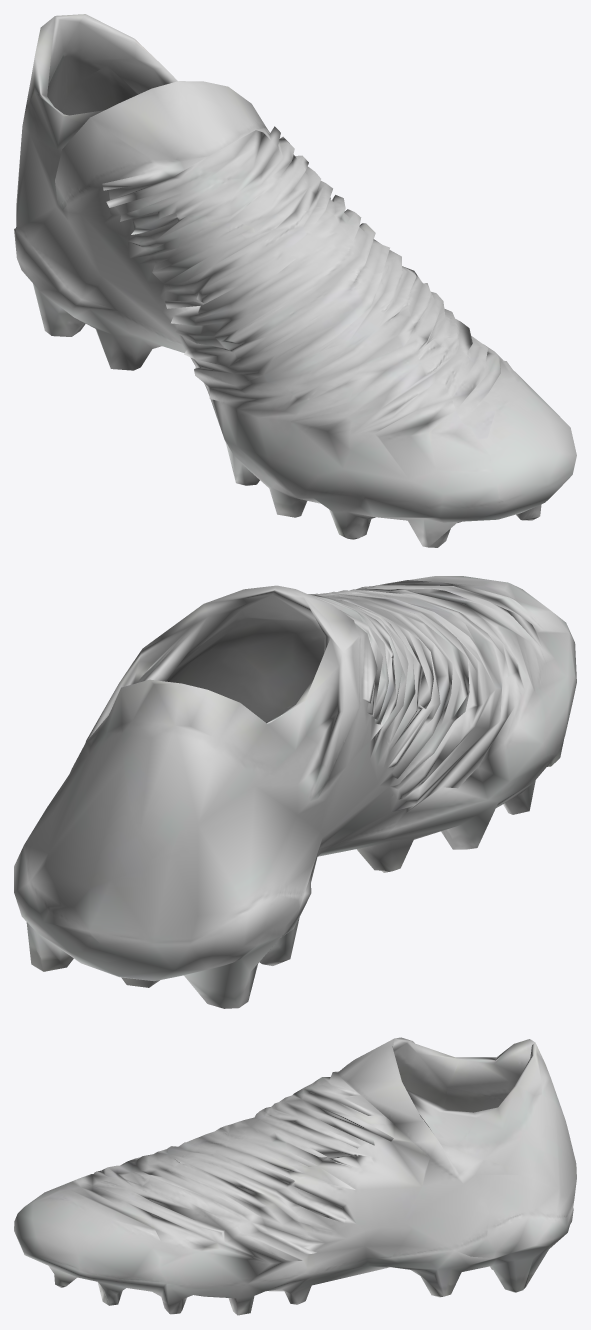
The model's file is boot-maestro-lod.glb.
3 views of the same model, one above another, from view 1: azimuth 30°, elevation 25°; view 2: azimuth 150°, elevation 25°; view 3: azimuth 270°, elevation 25° (orthographic). The views are drawn at different scales.
Visible parts, largest first — view 1: tripo_node_3ba76d6a-81e9-45cf-b4d0-1b422df5bfc3; view 2: tripo_node_3ba76d6a-81e9-45cf-b4d0-1b422df5bfc3; view 3: tripo_node_3ba76d6a-81e9-45cf-b4d0-1b422df5bfc3.
Boxes of the visible parts, x1,y1,x2,y2 form: tripo_node_3ba76d6a-81e9-45cf-b4d0-1b422df5bfc3: (14,14,576,547); tripo_node_3ba76d6a-81e9-45cf-b4d0-1b422df5bfc3: (14,576,576,1008); tripo_node_3ba76d6a-81e9-45cf-b4d0-1b422df5bfc3: (14,1037,576,1315).
Size of the model in its own units: 0.3949 by 0.4163 by 0.9988.
Materials: 1 (1 with a texture image).
